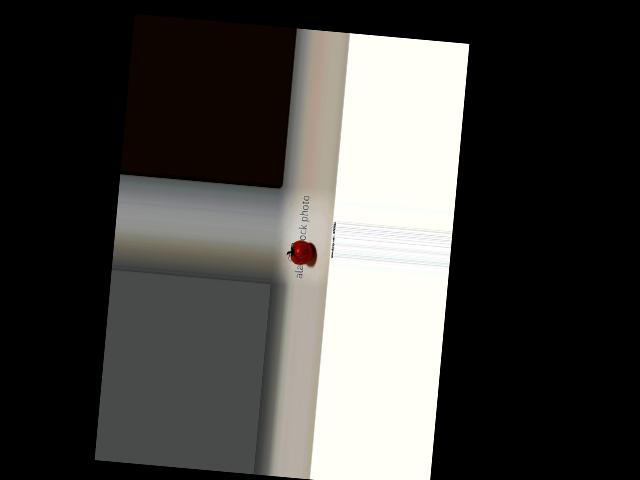tomato: (289, 239, 314, 265)
